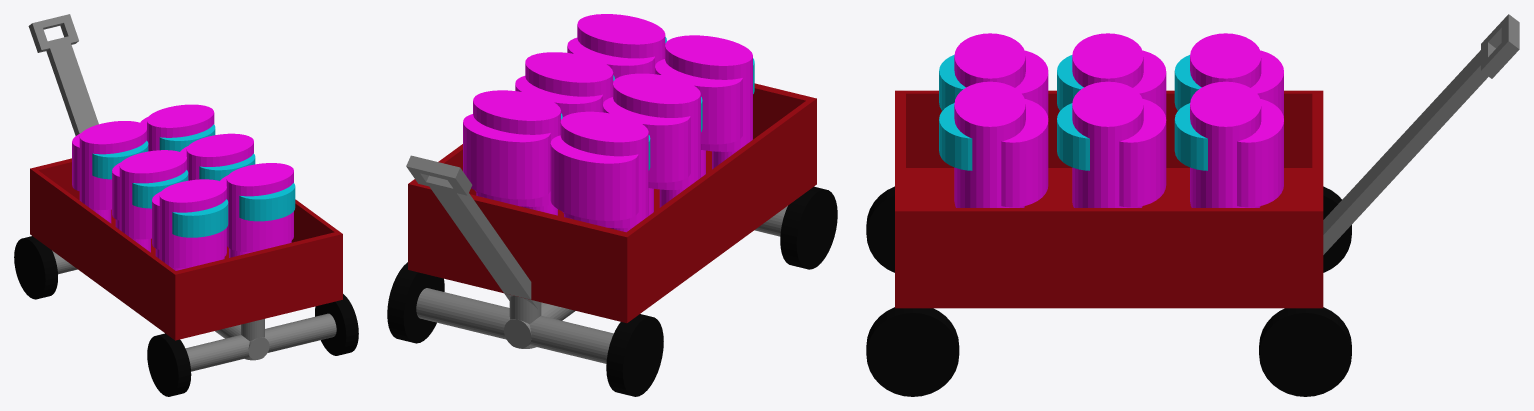
Rendered from moguswagon.fbx.
3 renders of one model, left to right at view 1: azimuth 30°, elevation 25°; view 2: azimuth 150°, elevation 25°; view 3: azimuth 270°, elevation 25°, orthographic. The views are drawn at different scales.
Parts seen in each view (by area): view 1: Cube.001, Cylinder.006, Cylinder.005, Cylinder.003, Cylinder.002, Cylinder.001, Cylinder.004; view 2: Cube.001, Cylinder.003, Cylinder.001, Cylinder.002, Cylinder.006, Cylinder.004, Cylinder.005; view 3: Cube.001, Cylinder.005, Cylinder.004, Cylinder.001, Cylinder.006, Cylinder.002, Cylinder.003.
Part boxes in pixels (left/top/right/bottom): Cube.001: left=14, top=14, right=358, bottom=396; Cylinder.006: left=152, top=179, right=228, bottom=270; Cylinder.005: left=220, top=163, right=295, bottom=257; Cylinder.003: left=72, top=121, right=148, bottom=229; Cylinder.002: left=112, top=150, right=188, bottom=258; Cylinder.001: left=140, top=104, right=215, bottom=151; Cylinder.004: left=180, top=133, right=255, bottom=180; Cube.001: left=387, top=83, right=837, bottom=396; Cylinder.003: left=550, top=111, right=650, bottom=232; Cylinder.001: left=463, top=90, right=562, bottom=215; Cylinder.002: left=602, top=73, right=702, bottom=215; Cylinder.006: left=655, top=35, right=754, bottom=177; Cylinder.004: left=515, top=52, right=614, bottom=117; Cylinder.005: left=567, top=14, right=666, bottom=78; Cube.001: left=866, top=14, right=1519, bottom=396; Cylinder.005: left=939, top=81, right=1048, bottom=207; Cylinder.004: left=1057, top=81, right=1166, bottom=207; Cylinder.001: left=1174, top=81, right=1283, bottom=207; Cylinder.006: left=939, top=33, right=1048, bottom=117; Cylinder.002: left=1057, top=33, right=1166, bottom=118; Cylinder.003: left=1174, top=33, right=1283, bottom=117.
Bounding box in the file's own units: 430 × 915 × 471.
